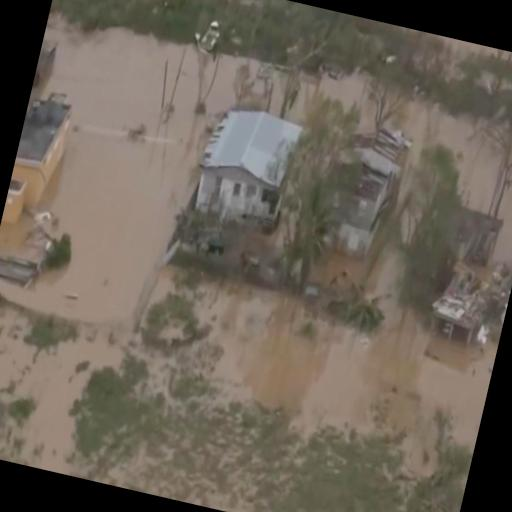flood: (0, 28, 199, 326), (211, 253, 491, 454), (0, 336, 121, 475), (429, 111, 500, 215), (186, 54, 260, 136), (294, 74, 380, 135), (388, 103, 436, 167), (403, 411, 436, 485), (493, 182, 512, 263)
house: (184, 94, 310, 240), (2, 89, 78, 232), (417, 252, 512, 354)
